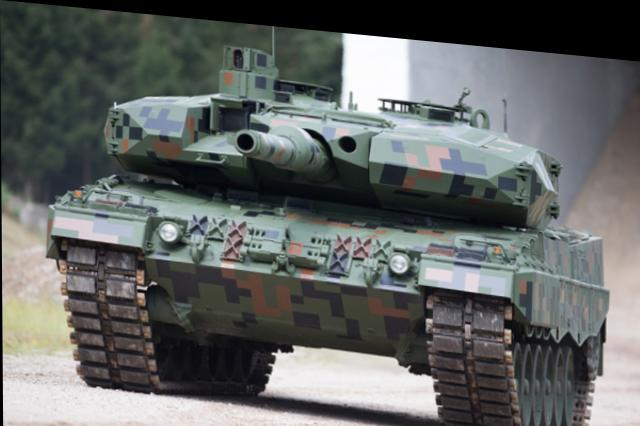tank: (43, 62, 611, 424)
